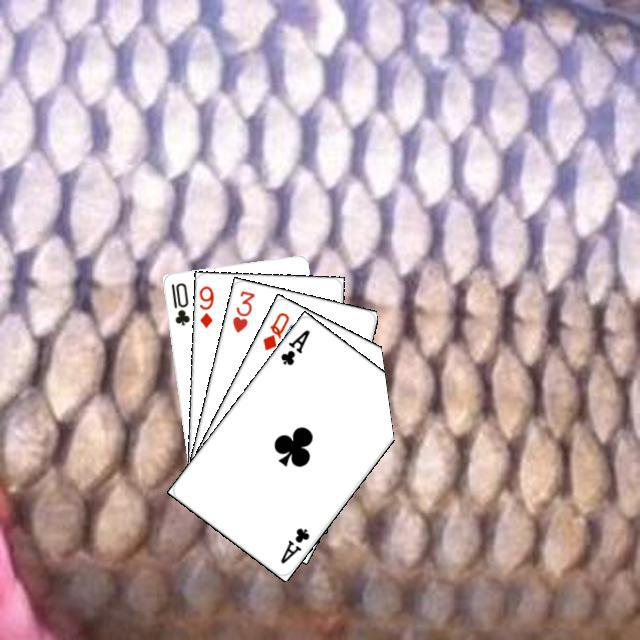10c: (166, 278, 191, 327)
3h: (227, 285, 256, 335)
9d: (195, 281, 215, 329)
Ac: (275, 324, 312, 367), (275, 523, 311, 565)
Qd: (258, 307, 291, 352)
